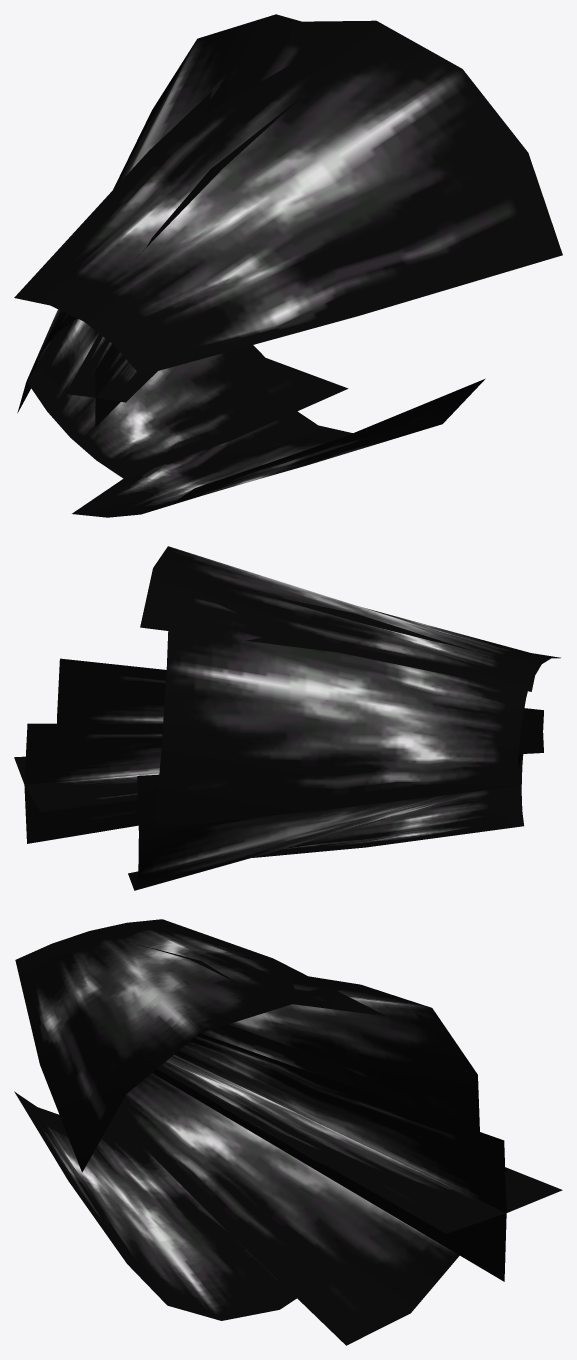
File: Aztec_cone_plane.FBX
3 views of the same model, one above another, from view 1: azimuth 30°, elevation 25°; view 2: azimuth 150°, elevation 25°; view 3: azimuth 270°, elevation 25° (orthographic). The views are drawn at different scales.
Visible parts, largest first — view 1: Plane02; view 2: Plane02; view 3: Plane02.
Part boxes in pixels (left/top/right/bottom): Plane02: left=14, top=14, right=562, bottom=517; Plane02: left=14, top=546, right=560, bottom=890; Plane02: left=14, top=919, right=562, bottom=1345.
Bounding box in the file's own units: 10.04 × 6.49 × 9.5.
